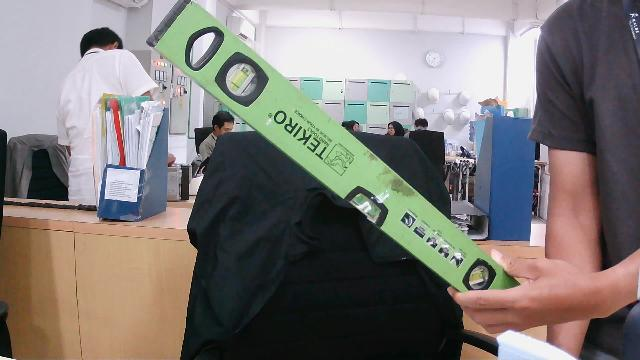water_pass: (139, 0, 544, 321)
